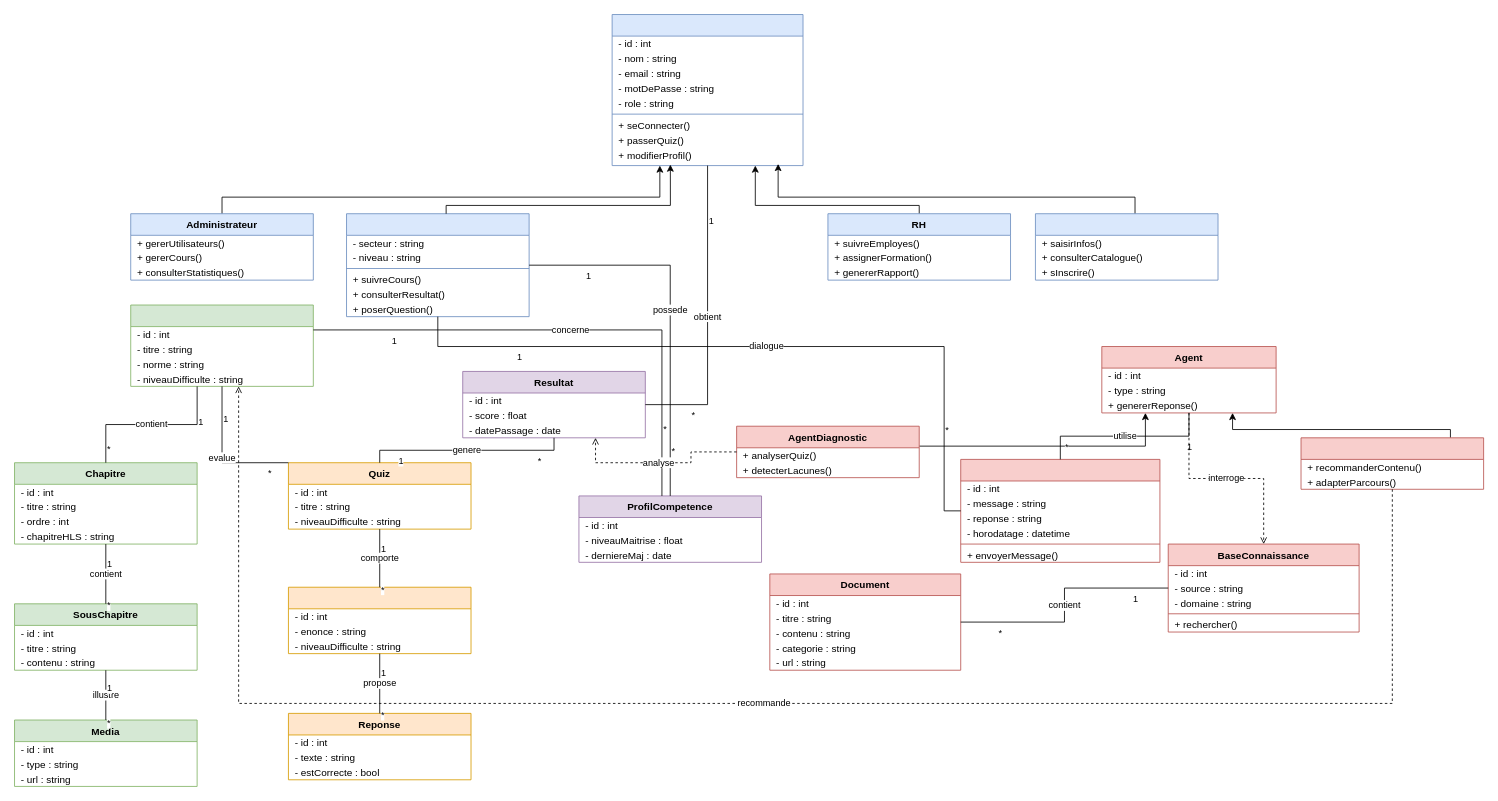
This 1498x801 diagram has some shape labels left out. Each missing label, with the box of its shape:
AgentRecommandation: (1300, 437, 1484, 489)
Apprenant: (346, 213, 529, 317)
ConversationIA: (960, 459, 1160, 562)
Cours: (130, 304, 313, 386)
Question: (288, 586, 471, 654)
Utilisateur: (611, 14, 803, 166)
Visiteur: (1035, 213, 1218, 280)
